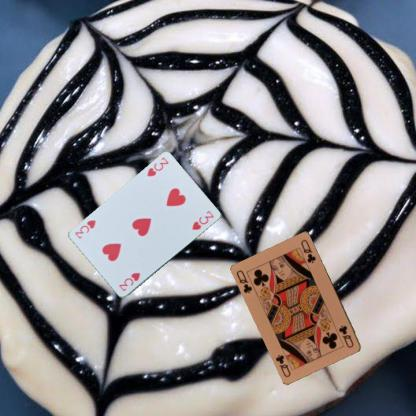3h: (116, 270, 142, 293), (144, 155, 170, 178)
Qc: (336, 322, 356, 349), (234, 268, 254, 295)
